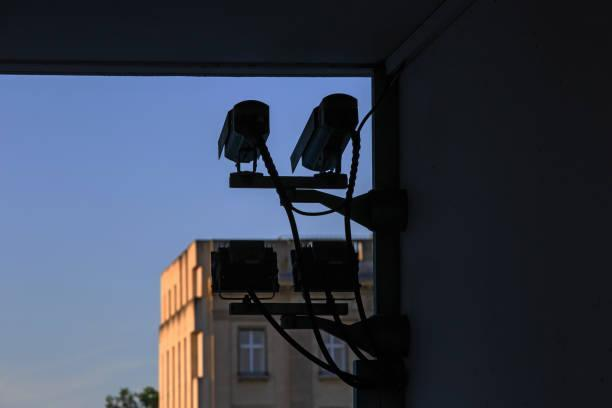camera: (287, 89, 373, 195), (201, 90, 286, 194)
